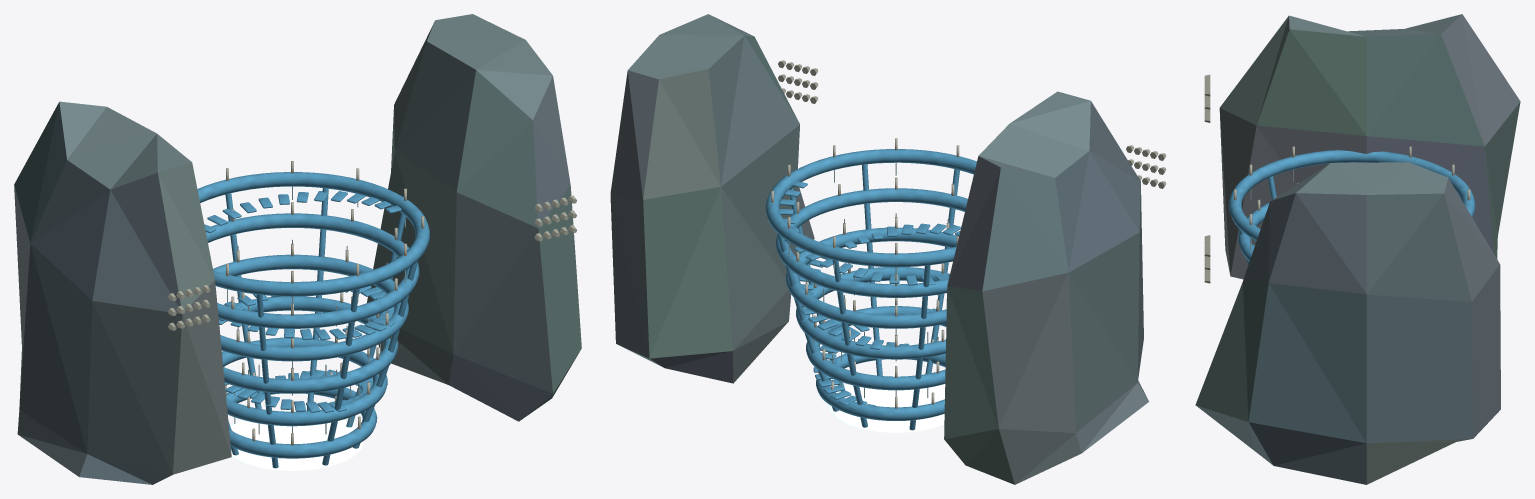
File: abyss.glb
3 views of the same model, side by side, from view 1: azimuth 30°, elevation 25°; view 2: azimuth 150°, elevation 25°; view 3: azimuth 270°, elevation 25° (orthographic). The views are drawn at different scales.
Visible parts, largest first — view 1: Tidewatch_fractured_embankment, Tidewatch_fractured_embankment.001, abyss_Glacial blue.006, abyss_Moonlight.006, abyss_Pearl limestone.006; view 2: Tidewatch_fractured_embankment, Tidewatch_fractured_embankment.001, abyss_Glacial blue.006, abyss_Moonlight.006, abyss_Pearl limestone.006; view 3: Tidewatch_fractured_embankment.001, Tidewatch_fractured_embankment, abyss_Glacial blue.006.
Boxes of the visible parts, x1,y1,x2,y2 form: Tidewatch_fractured_embankment: [14, 101, 231, 484]; Tidewatch_fractured_embankment.001: [367, 14, 581, 421]; abyss_Glacial blue.006: [197, 172, 429, 468]; abyss_Moonlight.006: [230, 410, 363, 470]; abyss_Pearl limestone.006: [225, 161, 424, 445]; Tidewatch_fractured_embankment: [944, 91, 1166, 484]; Tidewatch_fractured_embankment.001: [610, 14, 818, 383]; abyss_Glacial blue.006: [765, 149, 976, 430]; abyss_Moonlight.006: [828, 375, 945, 432]; abyss_Pearl limestone.006: [771, 138, 959, 408]; Tidewatch_fractured_embankment.001: [1195, 162, 1500, 484]; Tidewatch_fractured_embankment: [1204, 14, 1520, 279]; abyss_Glacial blue.006: [1228, 150, 1475, 265].
Bounding box in the file's own units: 35.68 × 23.02 × 22.26.
5 materials, 3 textured.
